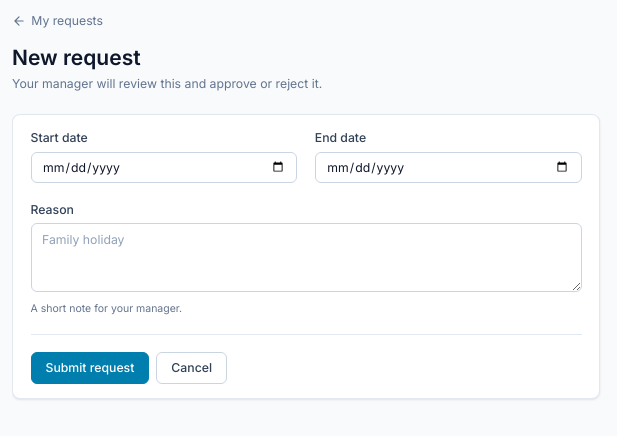
Scenario: NewRequestPage › counts a single-day request as one day
This screenshot has width=617, height=436.
Type "2026-09-10" into the date field labelled "Start date" at (164, 167), box [30, 152, 297, 183]
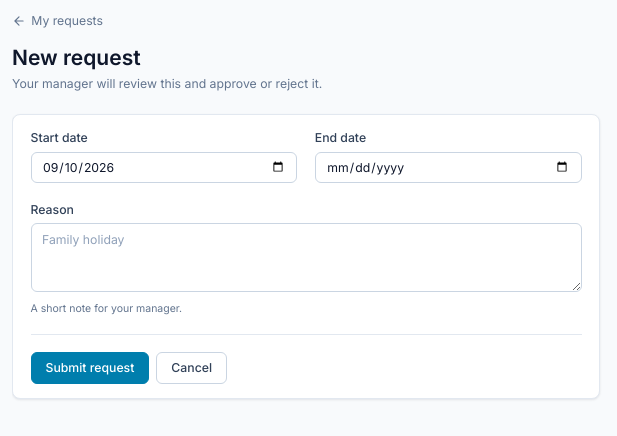
Type "2026-09-10" into the date field labelled "End date" at (448, 167), box [315, 152, 582, 183]
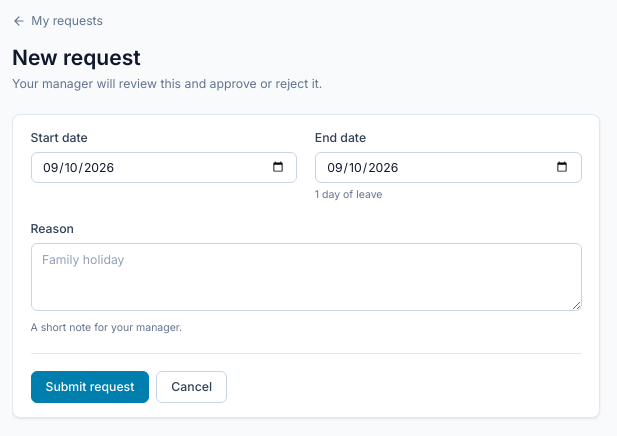
Result: the text "1 day of leave" is shown at [315, 188, 382, 201]
